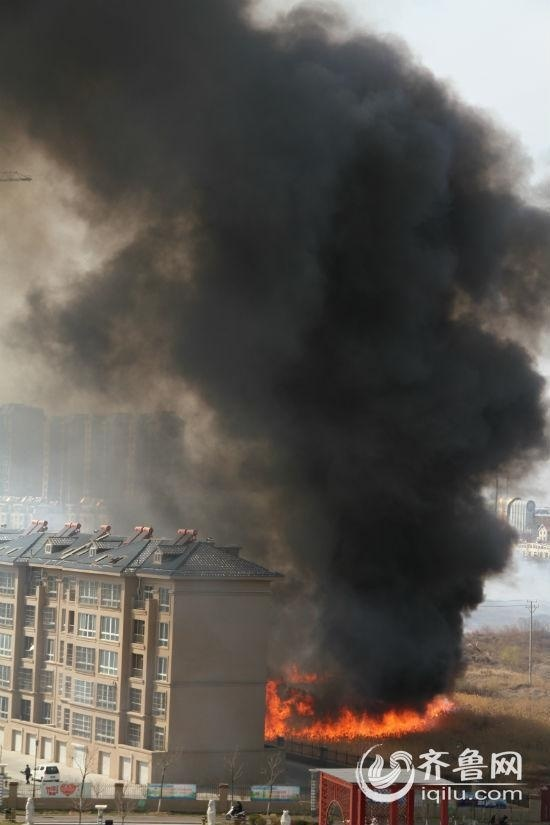fire: (262, 677, 456, 741)
